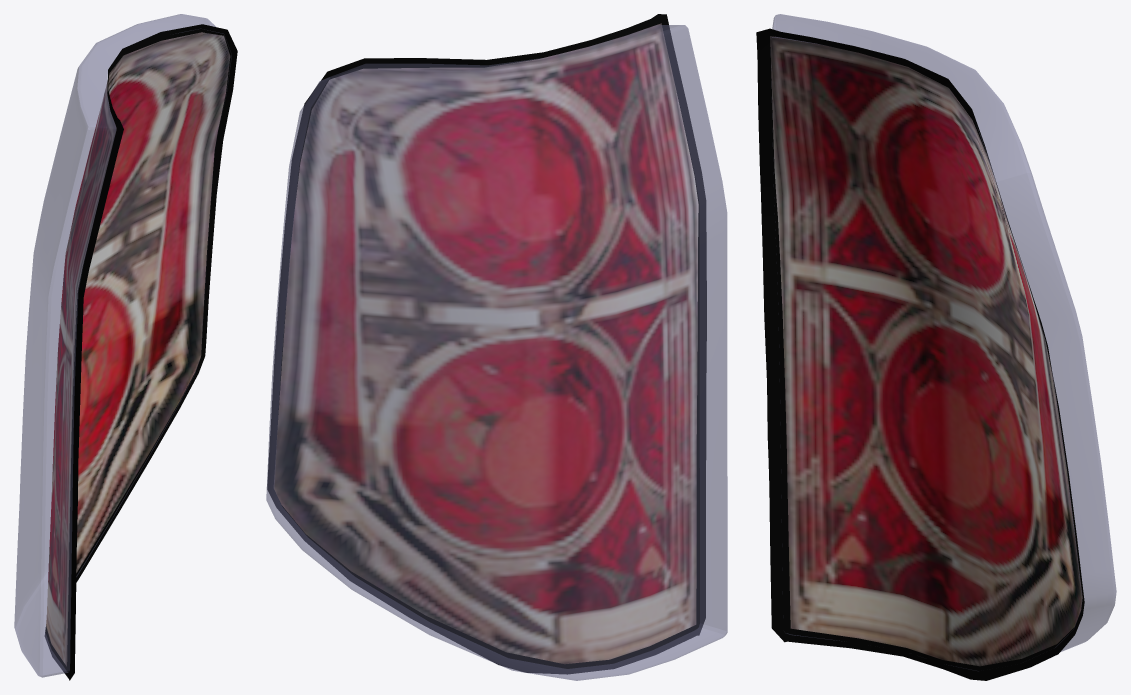
3 views of the same model, side by side, from view 1: azimuth 30°, elevation 25°; view 2: azimuth 150°, elevation 25°; view 3: azimuth 270°, elevation 25° (orthographic). The views are drawn at different scales.
Parts seen in each view (by area): view 1: H712_541C_L_H712_541C_L_1_N, H712_541C_L_H712_541C_L_2_DTaSI, H712_541C_L_3_D_H712_541C_L; view 2: H712_541C_L_H712_541C_L_2_DTaSI, H712_541C_L_H712_541C_L_1_N, H712_541C_L_3_D_H712_541C_L; view 3: H712_541C_L_H712_541C_L_1_N, H712_541C_L_H712_541C_L_2_DTaSI, H712_541C_L_3_D_H712_541C_L.
Part boxes in pixels (box(x1,y1,x2,y2)): H712_541C_L_H712_541C_L_1_N: box(46, 32, 230, 666); H712_541C_L_H712_541C_L_2_DTaSI: box(14, 14, 231, 677); H712_541C_L_3_D_H712_541C_L: box(45, 24, 237, 680); H712_541C_L_H712_541C_L_2_DTaSI: box(266, 25, 727, 680); H712_541C_L_H712_541C_L_1_N: box(274, 23, 698, 663); H712_541C_L_3_D_H712_541C_L: box(267, 14, 706, 674); H712_541C_L_H712_541C_L_1_N: box(770, 36, 1082, 666); H712_541C_L_H712_541C_L_2_DTaSI: box(772, 14, 1116, 651); H712_541C_L_3_D_H712_541C_L: box(756, 28, 1084, 680).
Bounding box in the file's own units: 20.73 × 37.05 × 18.95.
